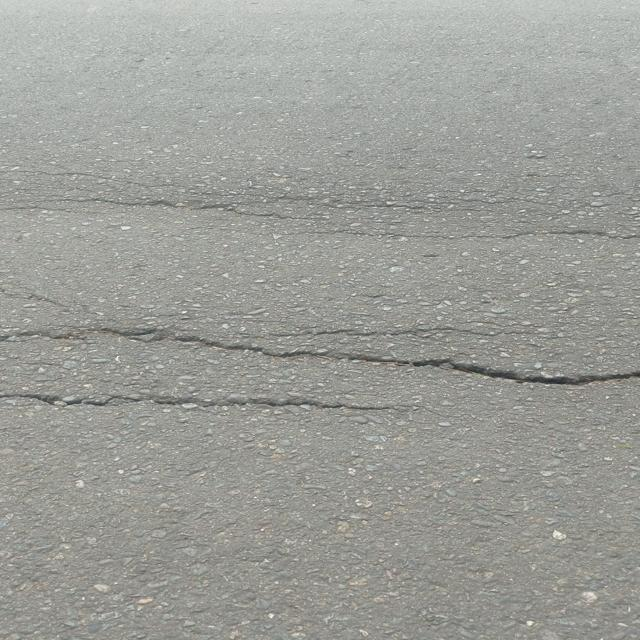Melintang: (0, 305, 640, 396), (0, 385, 400, 420)
